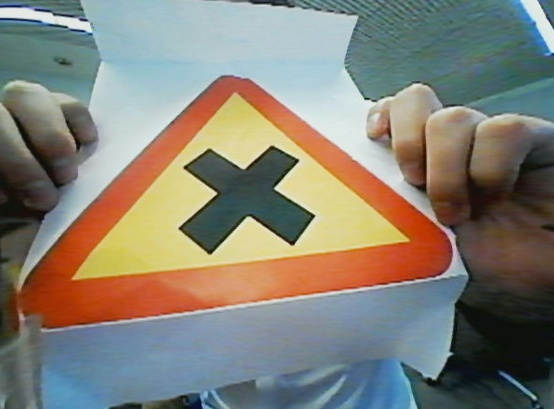junction: (21, 62, 488, 347)
